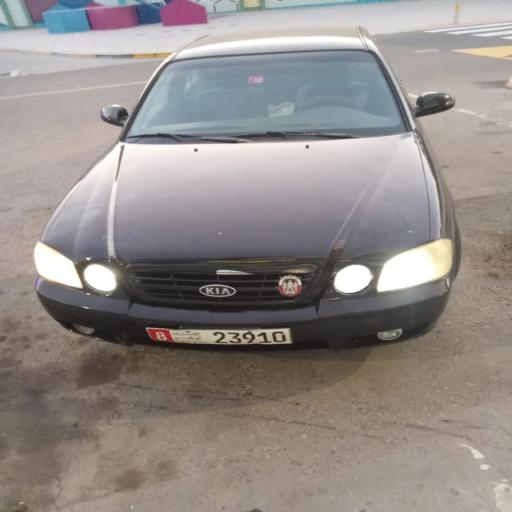license-plates: (147, 327, 292, 344)
